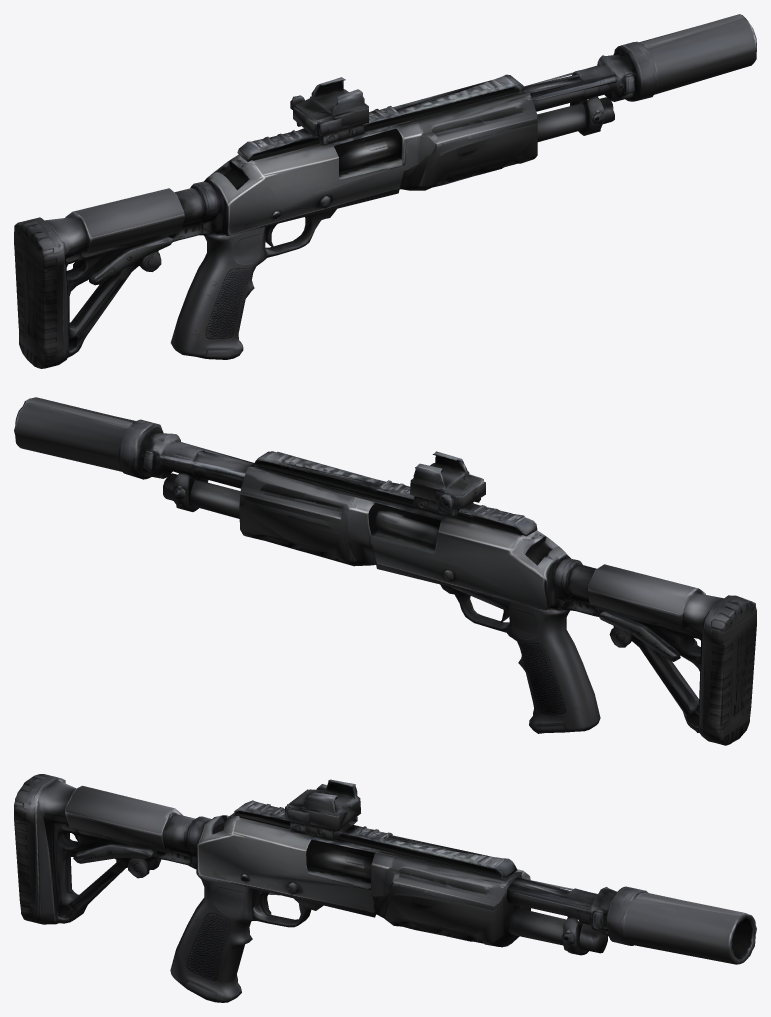
File: sg23_breacher.glb
3 renders of one model, top to bottom at view 1: azimuth 30°, elevation 25°; view 2: azimuth 150°, elevation 25°; view 3: azimuth 330°, elevation 25°, orthographic.
Visible parts, largest first — view 1: sg23_breacher; view 2: sg23_breacher; view 3: sg23_breacher.
Boxes of the visible parts, x1,y1,x2,y2 form: sg23_breacher: [14, 14, 756, 368]; sg23_breacher: [14, 397, 756, 745]; sg23_breacher: [14, 774, 756, 1002].
Size of the model in its own units: 1.05 by 0.3354 by 0.1043.
Materials: 1 (1 with a texture image).
